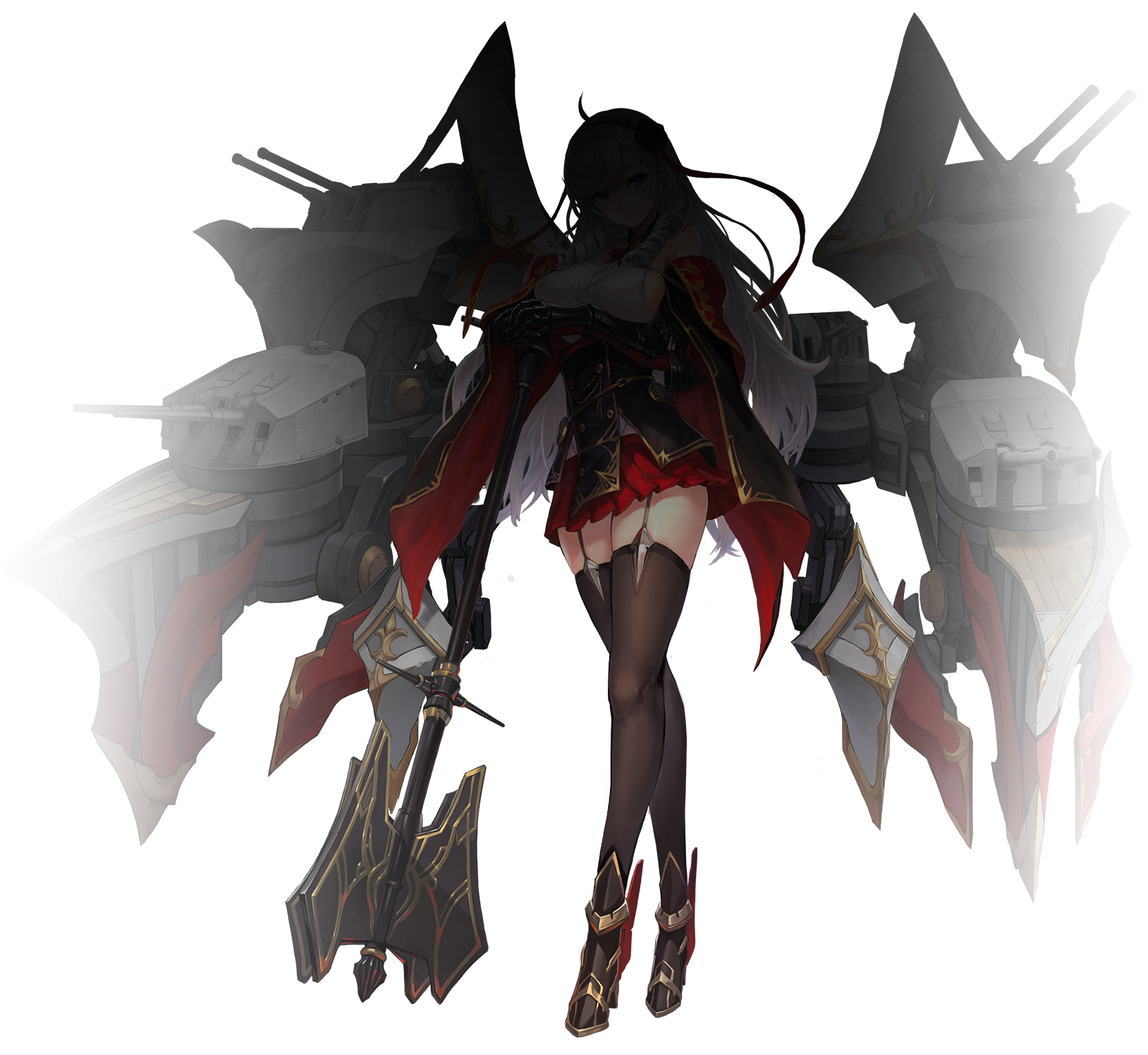person: (391, 78, 857, 1054)
